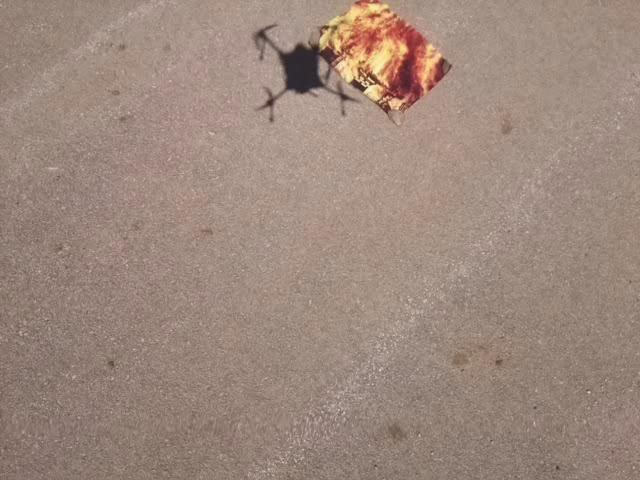fire-poster: (313, 0, 453, 127)
